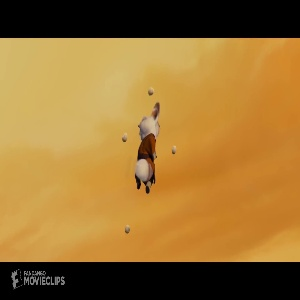shifu: (126, 101, 165, 196)
